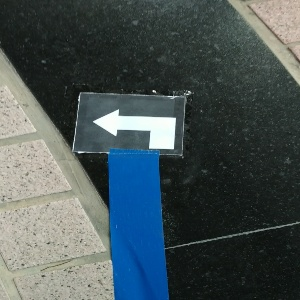left: (73, 92, 183, 155)
